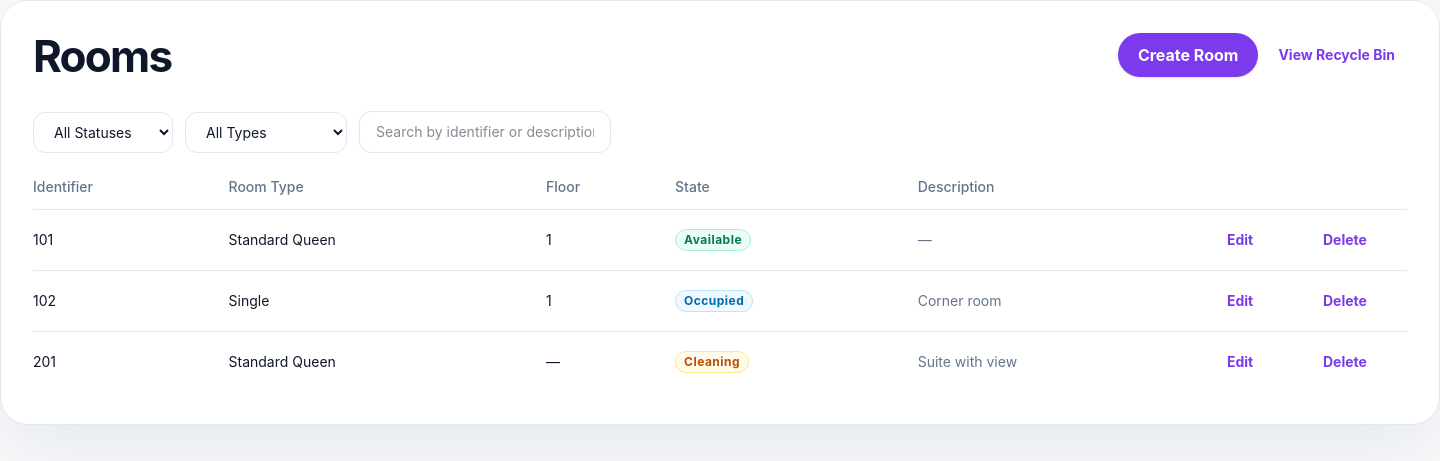
Test: RoomsPage › room type filter › narrows results when a room type is selected
This screenshot has width=1440, height=461.
Select "Standard Queen" in the dropdown named "Room type filter" at {"x": 266, "y": 132}, box [185,112,347,153]
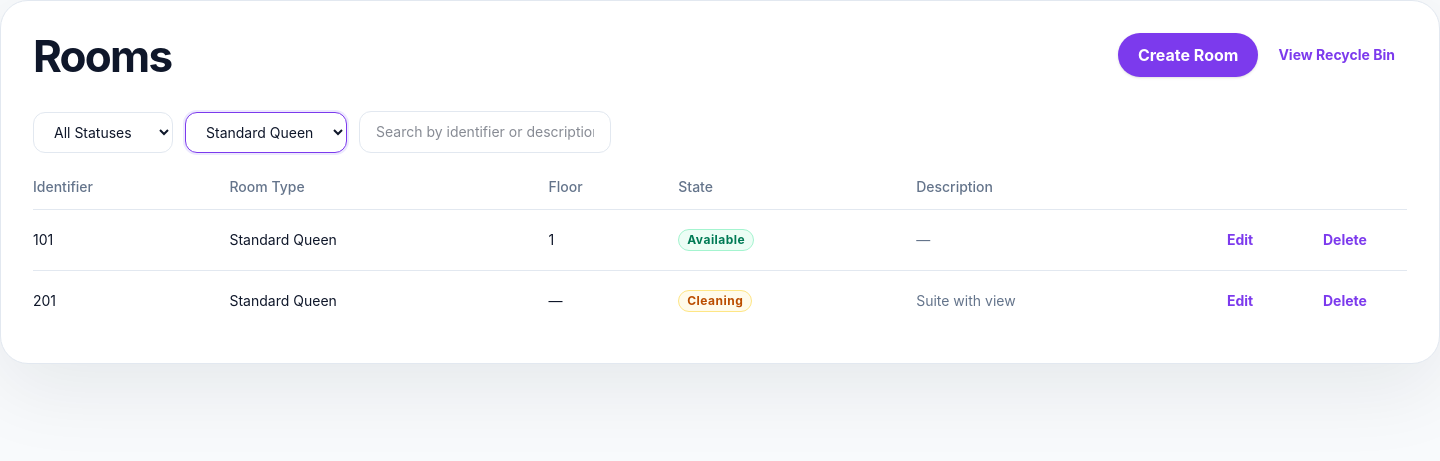
Expected: the text "101" is shown, [33,210,230,271]
Expected: the text "102" is gone
